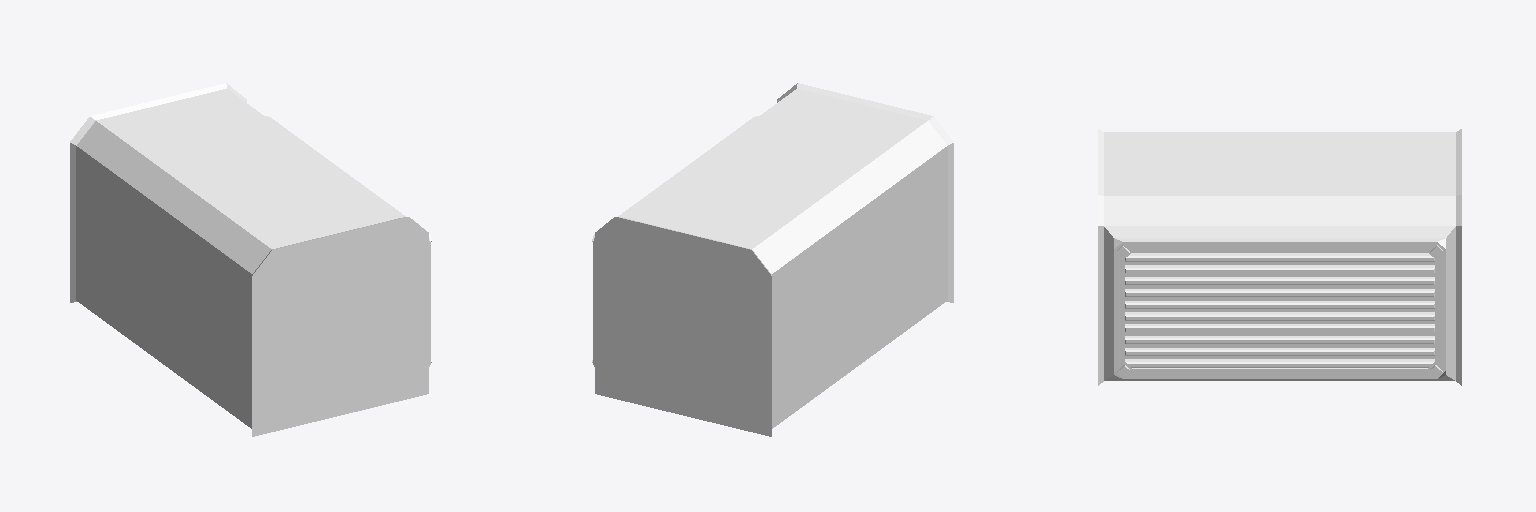
The model's file is AC_Unit_2.obj.
3 renders of one model, left to right at view 1: azimuth 30°, elevation 25°; view 2: azimuth 150°, elevation 25°; view 3: azimuth 270°, elevation 25°, orthographic.
Visible parts, largest first — view 1: Cube1; view 2: Cube1; view 3: Cube1.
Boxes of the visible parts, <box> form: Cube1: <box>70,83,431,436</box>; Cube1: <box>592,83,953,436</box>; Cube1: <box>1098,129,1461,385</box>.
Size of the model in its own units: 1.25 by 1.14 by 2.07.